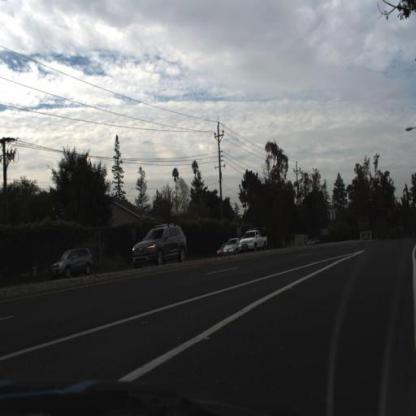car: (132, 221, 189, 269), (52, 246, 95, 282), (241, 227, 270, 254), (223, 236, 240, 258)
